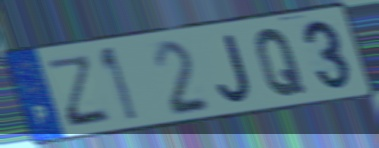1: (97, 43, 142, 125)
2: (152, 38, 213, 118)
3: (299, 17, 358, 93)
J: (215, 32, 255, 105)
Q: (253, 26, 309, 99)
Z: (46, 52, 112, 130)
